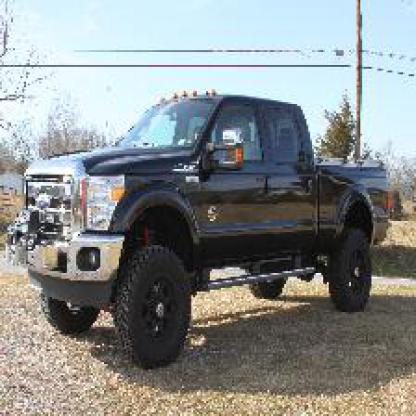not_emergency: (15, 91, 401, 347)
